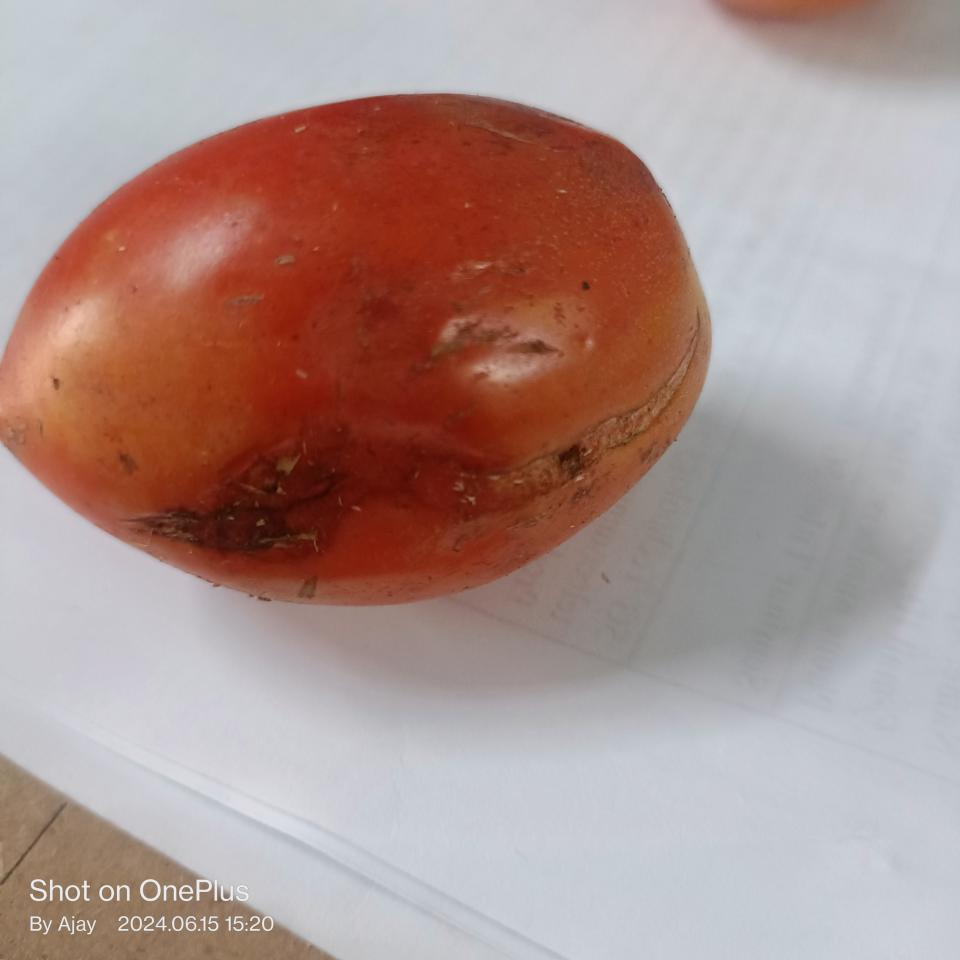Cracking: (138, 310, 703, 539)
